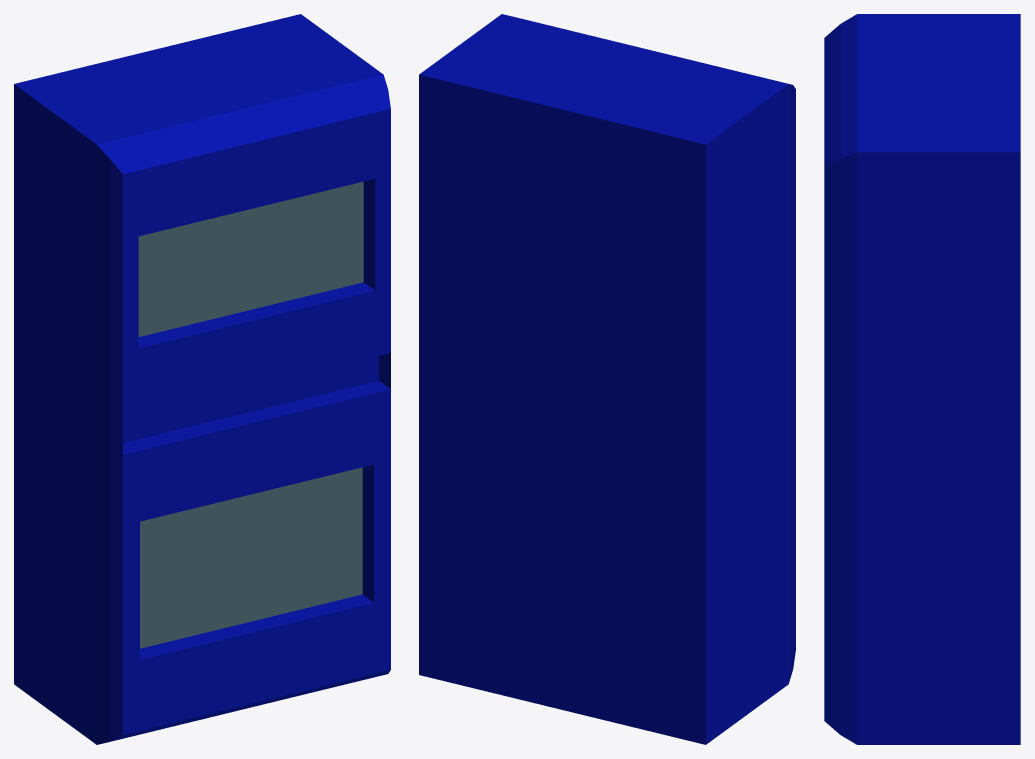
Rendered from WallPanel_02.fbx.
3 renders of one model, left to right at view 1: azimuth 30°, elevation 25°; view 2: azimuth 150°, elevation 25°; view 3: azimuth 270°, elevation 25°, orthographic.
Parts seen in each view (by area): view 1: Cube.021; view 2: Cube.021; view 3: Cube.021.
Boxes of the visible parts, x1,y1,x2,y2 form: Cube.021: [14, 14, 390, 744]; Cube.021: [419, 14, 795, 744]; Cube.021: [824, 14, 1020, 744].
Size of the model in its own units: 400 by 800 by 240.
